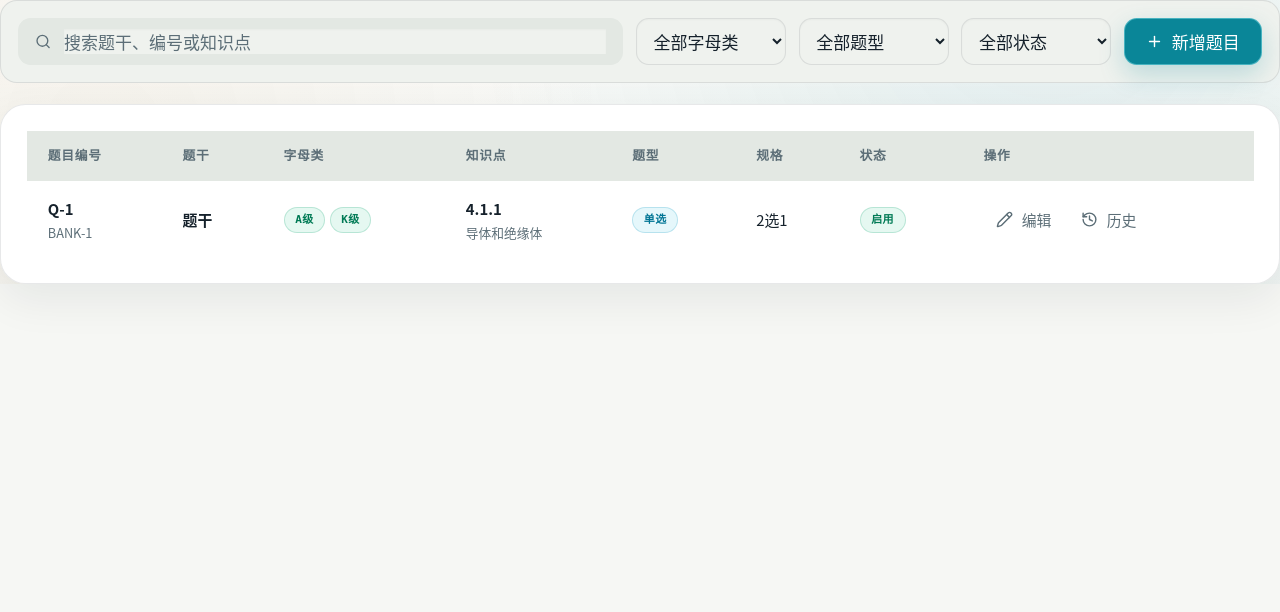
Test: QuestionManager (S8) › opens edit with multi-select letter classes and tree-selected knowledge point
Click the button "编辑". click: click(1024, 220)
box: [984, 201, 1064, 239]
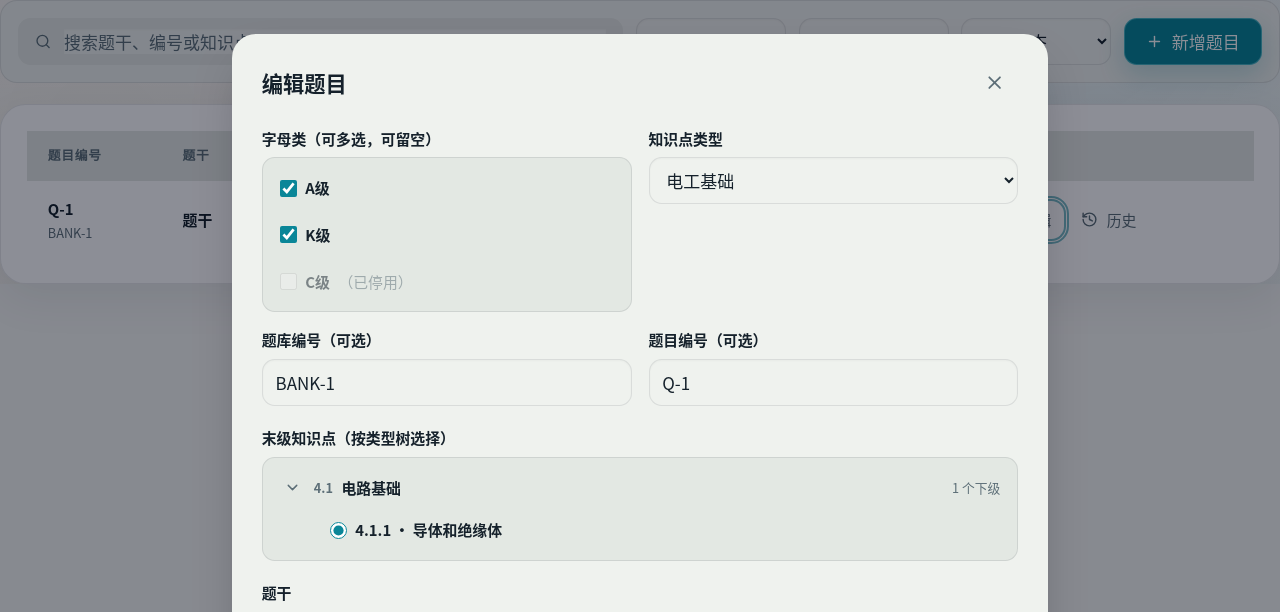
Now the checkbox named "字母类 A" is checked, box [280, 180, 297, 196]
Now the checkbox named "字母类 K" is checked, box [280, 226, 297, 243]
Now the dropdown named "知识点类型" shows "电工基础", box [648, 157, 1018, 204]
